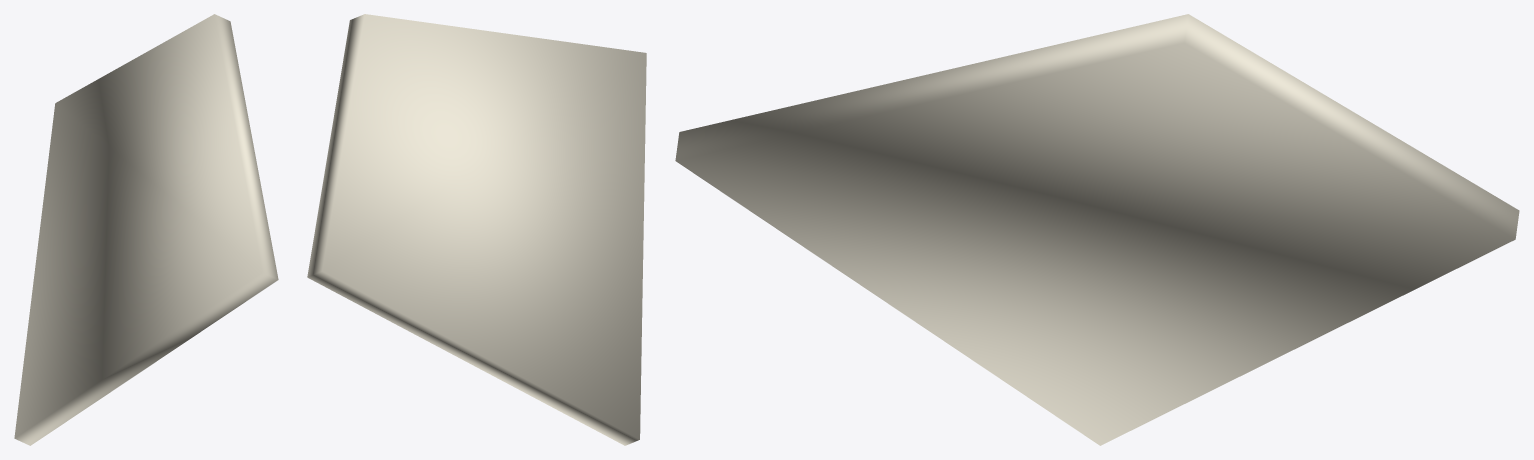
The picture shows the model from 3 angles, left to right: view 1: azimuth 30°, elevation 25°; view 2: azimuth 150°, elevation 25°; view 3: azimuth 270°, elevation 25°; orthographic projection. The views are drawn at different scales.
Parts seen in each view (by area): view 1: ZA_41ffc2ef8ceede9d; view 2: ZA_41ffc2ef8ceede9d; view 3: ZA_41ffc2ef8ceede9d.
Boxes of the visible parts, x1=… form: ZA_41ffc2ef8ceede9d: x1=14, y1=14, x2=278, y2=445; ZA_41ffc2ef8ceede9d: x1=307, y1=14, x2=646, y2=445; ZA_41ffc2ef8ceede9d: x1=675, y1=14, x2=1519, y2=445.
Size of the model in its own units: 0.00674 by 0.00969 by 0.0123.
